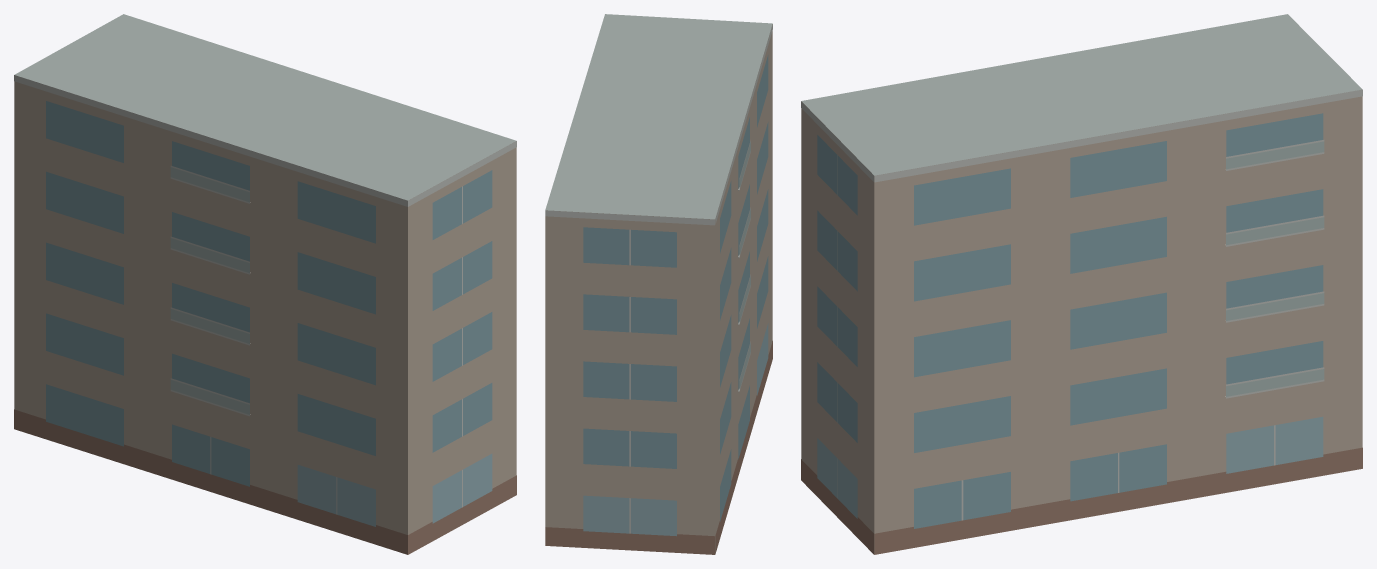
File: survey-upis-32593378.glb
3 renders of one model, left to right at view 1: azimuth 30°, elevation 25°; view 2: azimuth 150°, elevation 25°; view 3: azimuth 270°, elevation 25°, orthographic. The views are drawn at different scales.
Parts seen in each view (by area): view 1: survey-upis-32593378.tmp; view 2: survey-upis-32593378.tmp; view 3: survey-upis-32593378.tmp.
Boxes of the visible parts, box(x1,y1,x2,y2) form: survey-upis-32593378.tmp: box(14, 14, 516, 554); survey-upis-32593378.tmp: box(545, 14, 772, 554); survey-upis-32593378.tmp: box(801, 14, 1362, 554).
Bounding box in the file's own units: 12.4 × 13.55 × 18.2.
